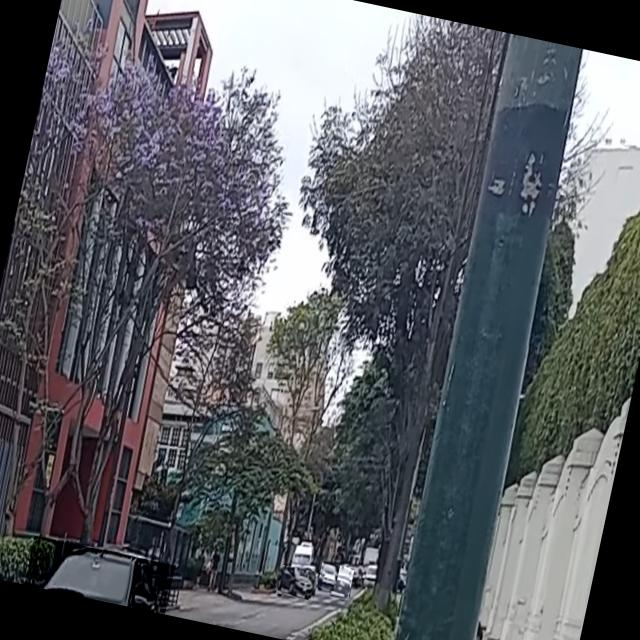car: (24, 535, 174, 614), (276, 564, 316, 602), (328, 565, 354, 598), (316, 561, 339, 591)
